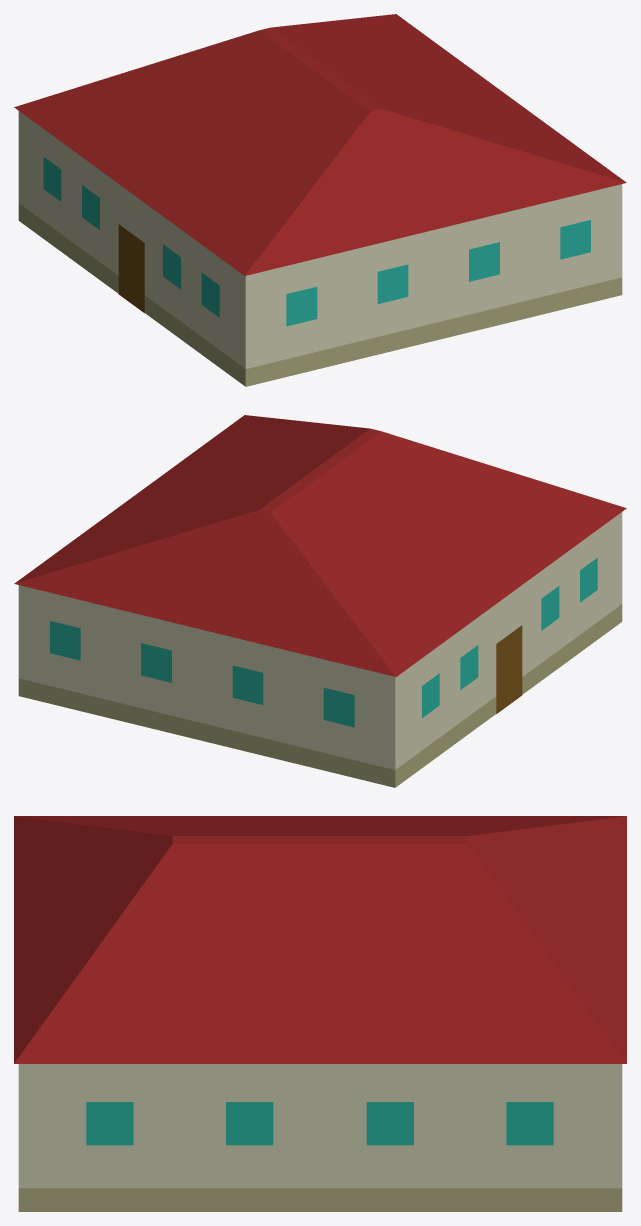
File: House3.fbx
3 renders of one model, top to bottom at view 1: azimuth 30°, elevation 25°; view 2: azimuth 150°, elevation 25°; view 3: azimuth 270°, elevation 25°, orthographic. The views are drawn at different scales.
Visible parts, largest first — view 1: House3; view 2: House3; view 3: House3.
Part boxes in pixels (bbox=[...]): House3: bbox=[14, 14, 626, 386]; House3: bbox=[14, 415, 626, 787]; House3: bbox=[14, 816, 626, 1211].
Size of the model in its own units: 315 by 148 by 329.
